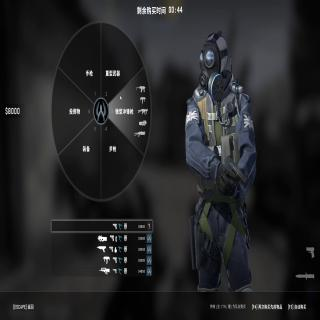CT-Body: (184, 30, 256, 294)
CT-Head: (198, 32, 228, 90)
